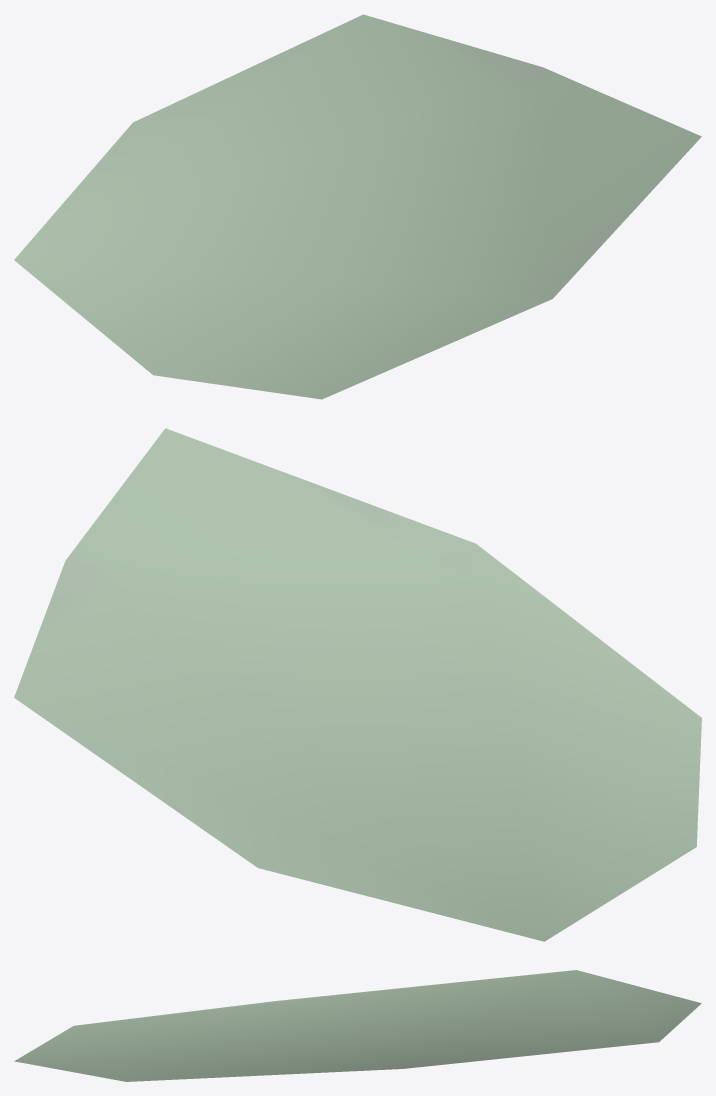
The model's file is TROLLHOLE02_HOLECAP81.fbx.
3 views of the same model, one above another, from view 1: azimuth 30°, elevation 25°; view 2: azimuth 150°, elevation 25°; view 3: azimuth 270°, elevation 25° (orthographic). The views are drawn at different scales.
Parts seen in each view (by area): view 1: TROLLHOLE02_HOLECAP81; view 2: TROLLHOLE02_HOLECAP81; view 3: TROLLHOLE02_HOLECAP81.
Boxes of the visible parts, left/top/right/bottom form: TROLLHOLE02_HOLECAP81: left=14, top=14, right=701, bottom=399; TROLLHOLE02_HOLECAP81: left=14, top=428, right=701, bottom=941; TROLLHOLE02_HOLECAP81: left=14, top=970, right=701, bottom=1081.
Size of the model in its own units: 10845 by 3503 by 11260.
Materials: 1 (1 with a texture image).
